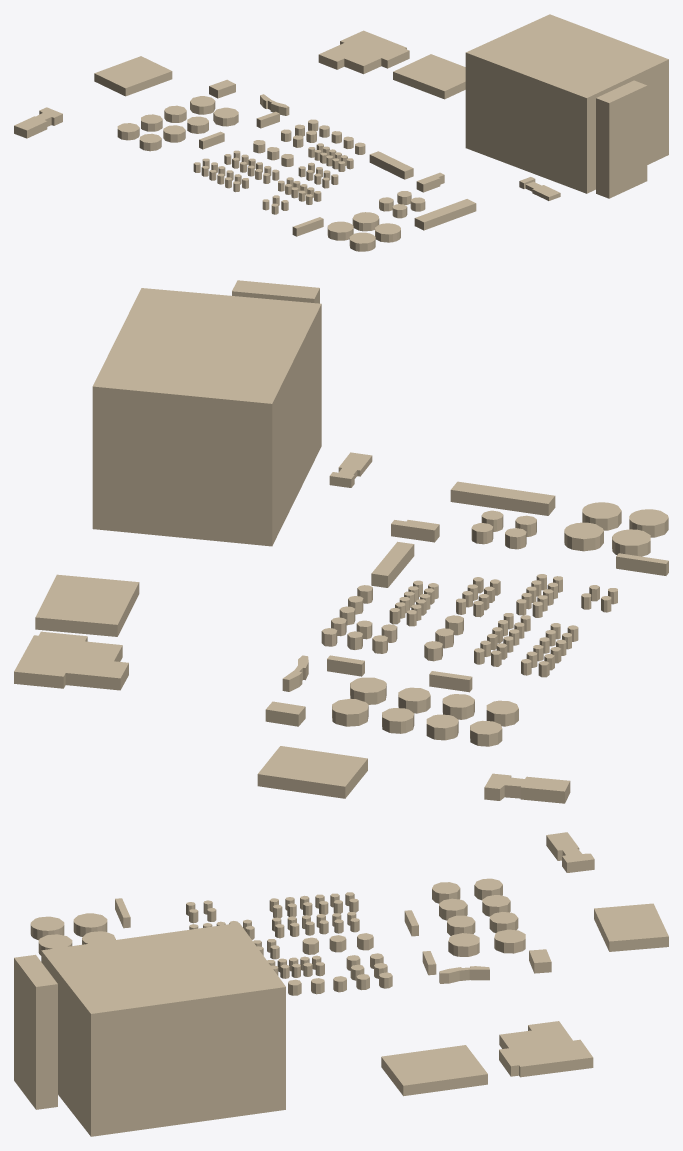
File: -17_-4-estimated-coarse.glb
3 views of the same model, one above another, from view 1: azimuth 30°, elevation 25°; view 2: azimuth 150°, elevation 25°; view 3: azimuth 270°, elevation 25° (orthographic). The views are drawn at different scales.
Size of the model in its own units: 724 by 141 by 681.
